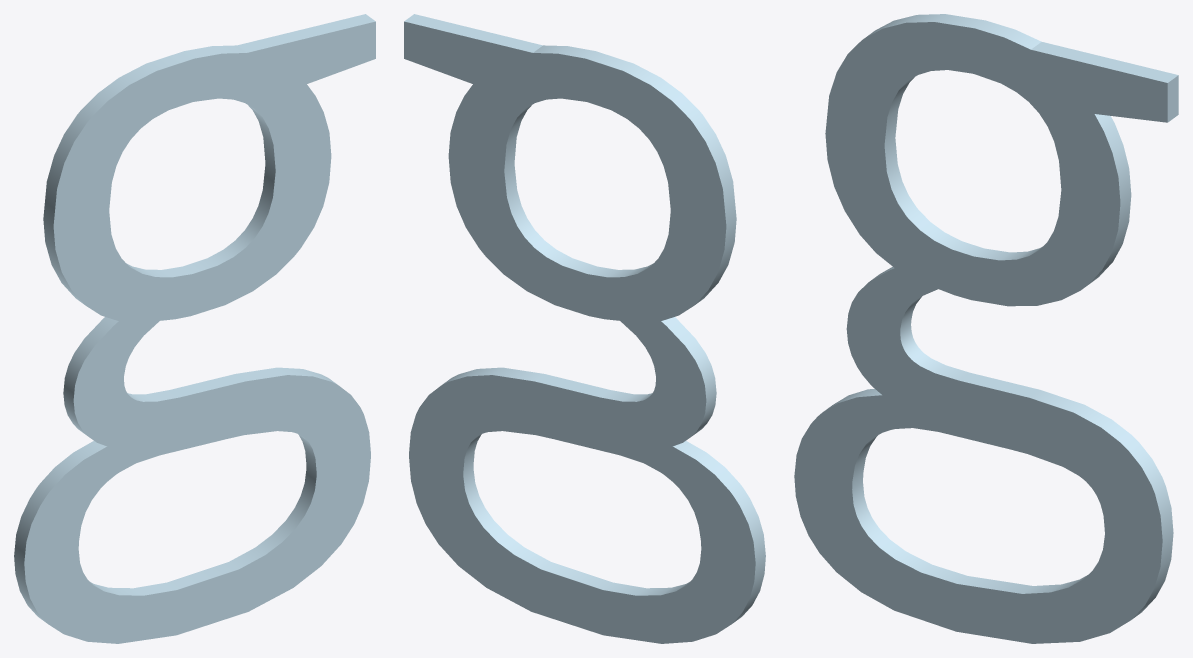
3 views of the same model, side by side, from view 1: azimuth 30°, elevation 25°; view 2: azimuth 150°, elevation 25°; view 3: azimuth 330°, elevation 25° (orthographic). The views are drawn at different scales.
Visible parts, largest first — view 1: g; view 2: g; view 3: g.
Boxes of the visible parts, x1,y1,x2,y2 form: g: (14,14,375,643); g: (404,14,765,643); g: (794,14,1178,643).
Size of the model in its own units: 0.0397 by 0.0617 by 0.002.
